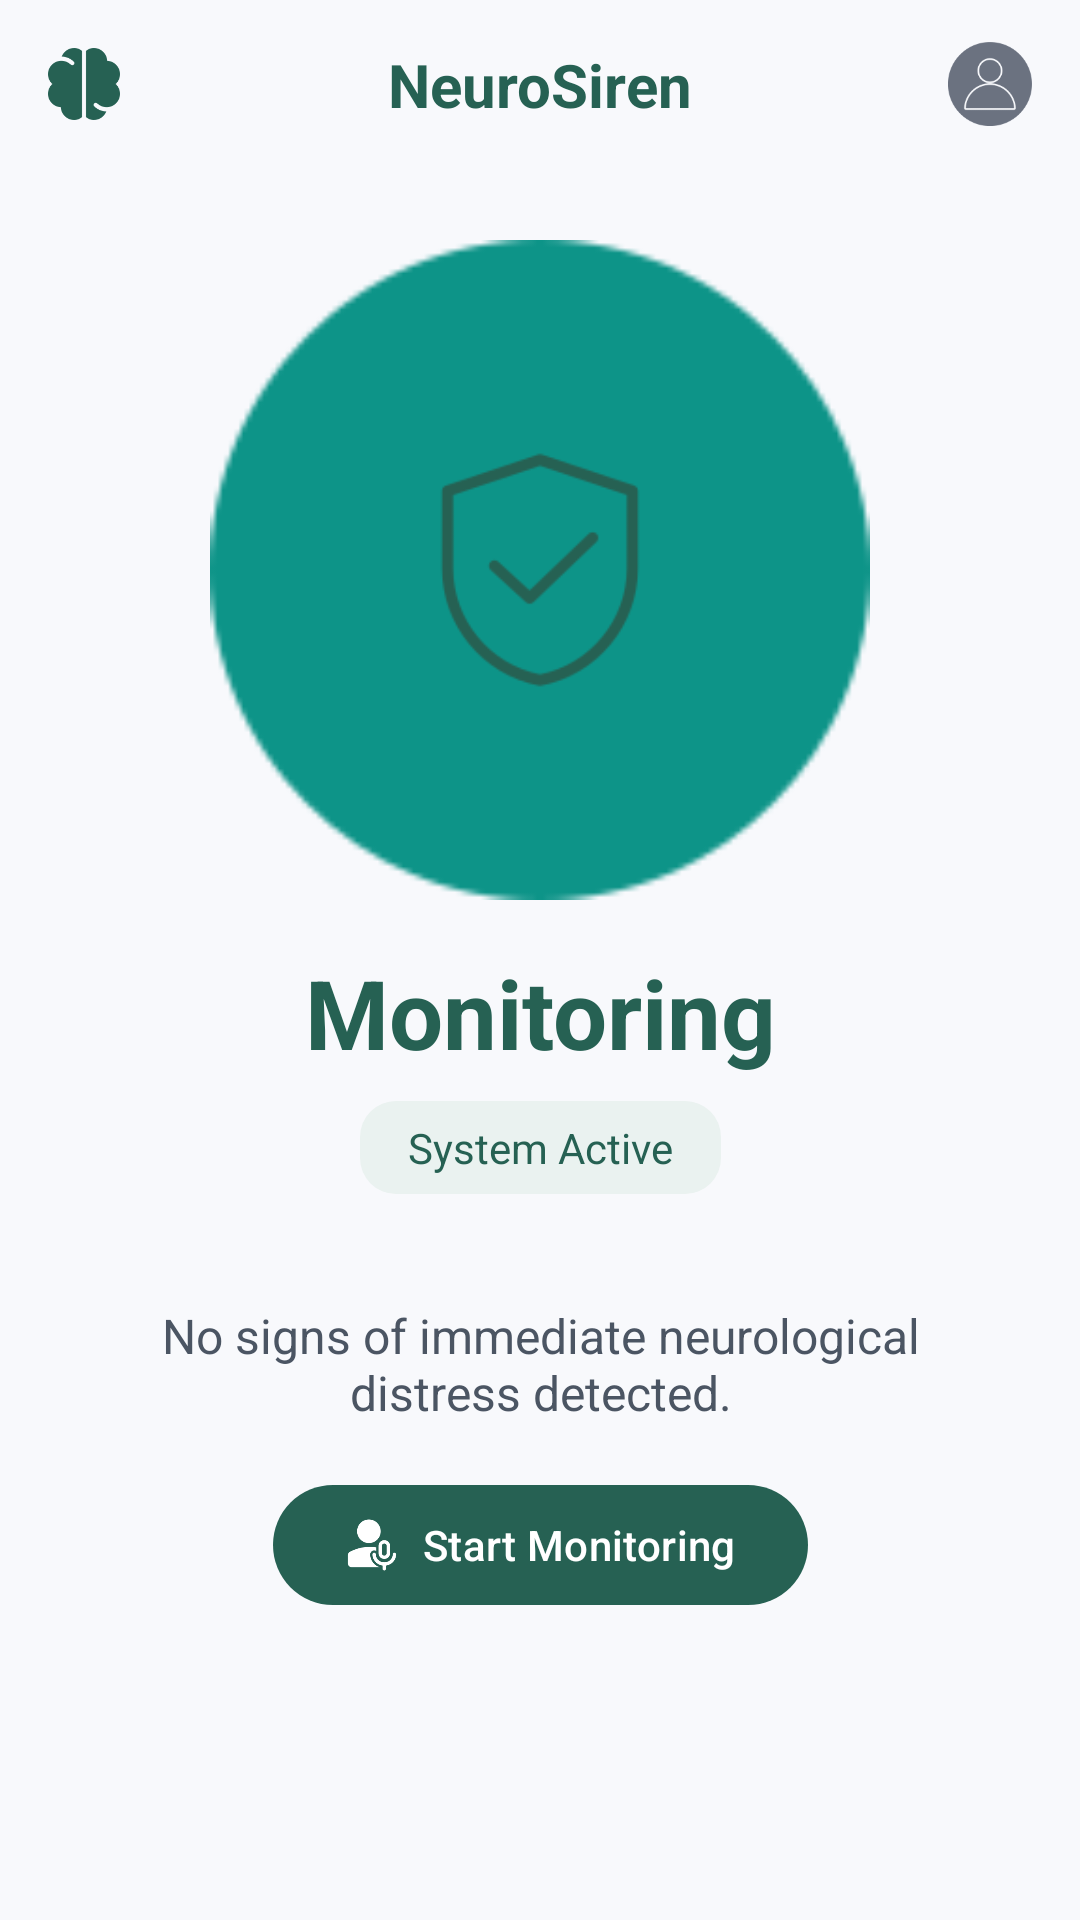

Named icons in this screenshot (1080w x 1920h) and their centers, (x=x, y=y):
profile: (x=990, y=84)
shield: (x=540, y=570)
